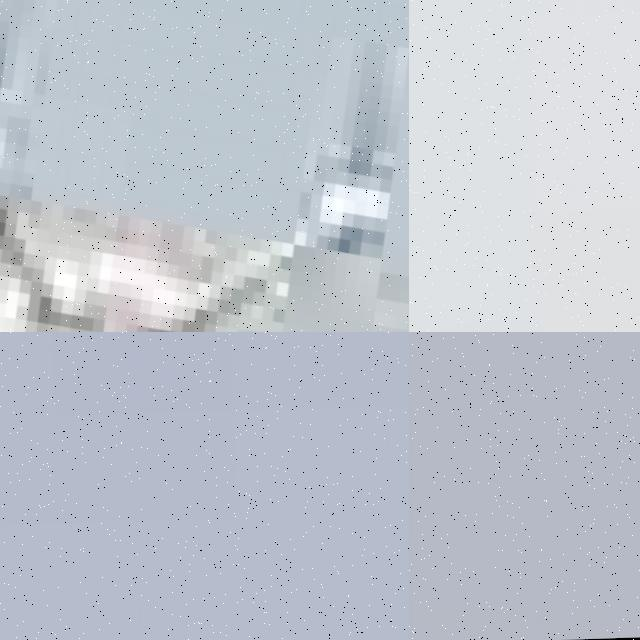drone: (0, 0, 409, 332)
